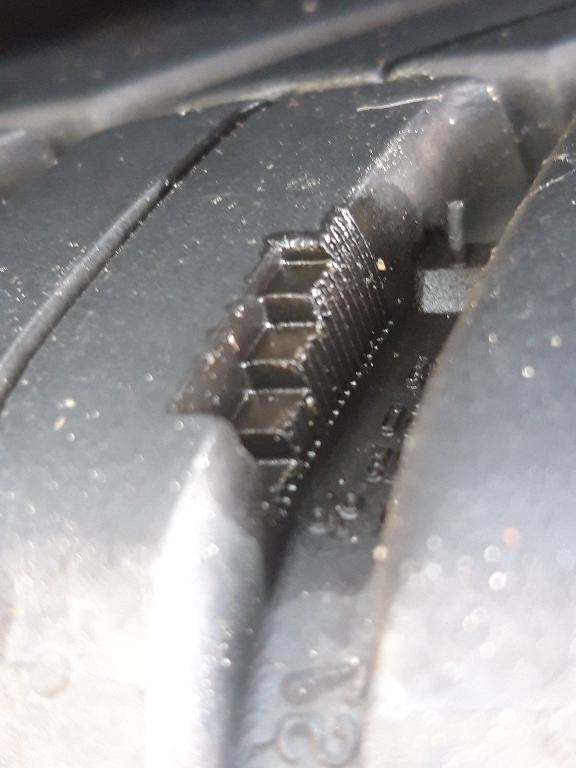temoin:90: (152, 199, 413, 539)
